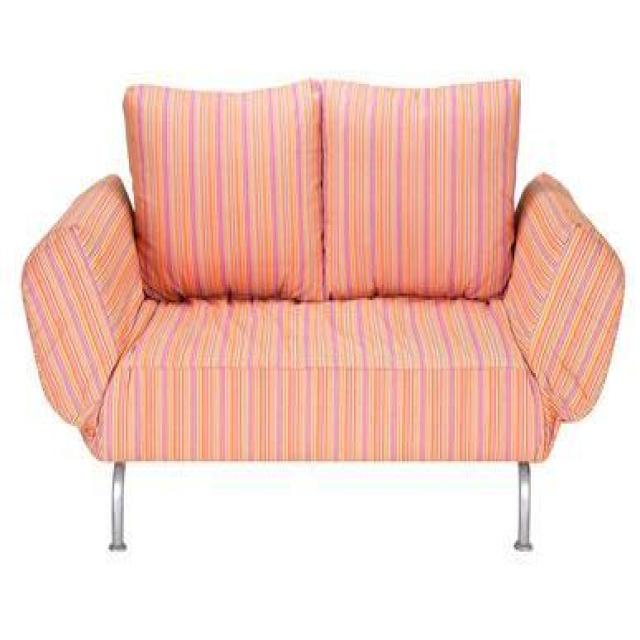sofa: (22, 73, 627, 556)
